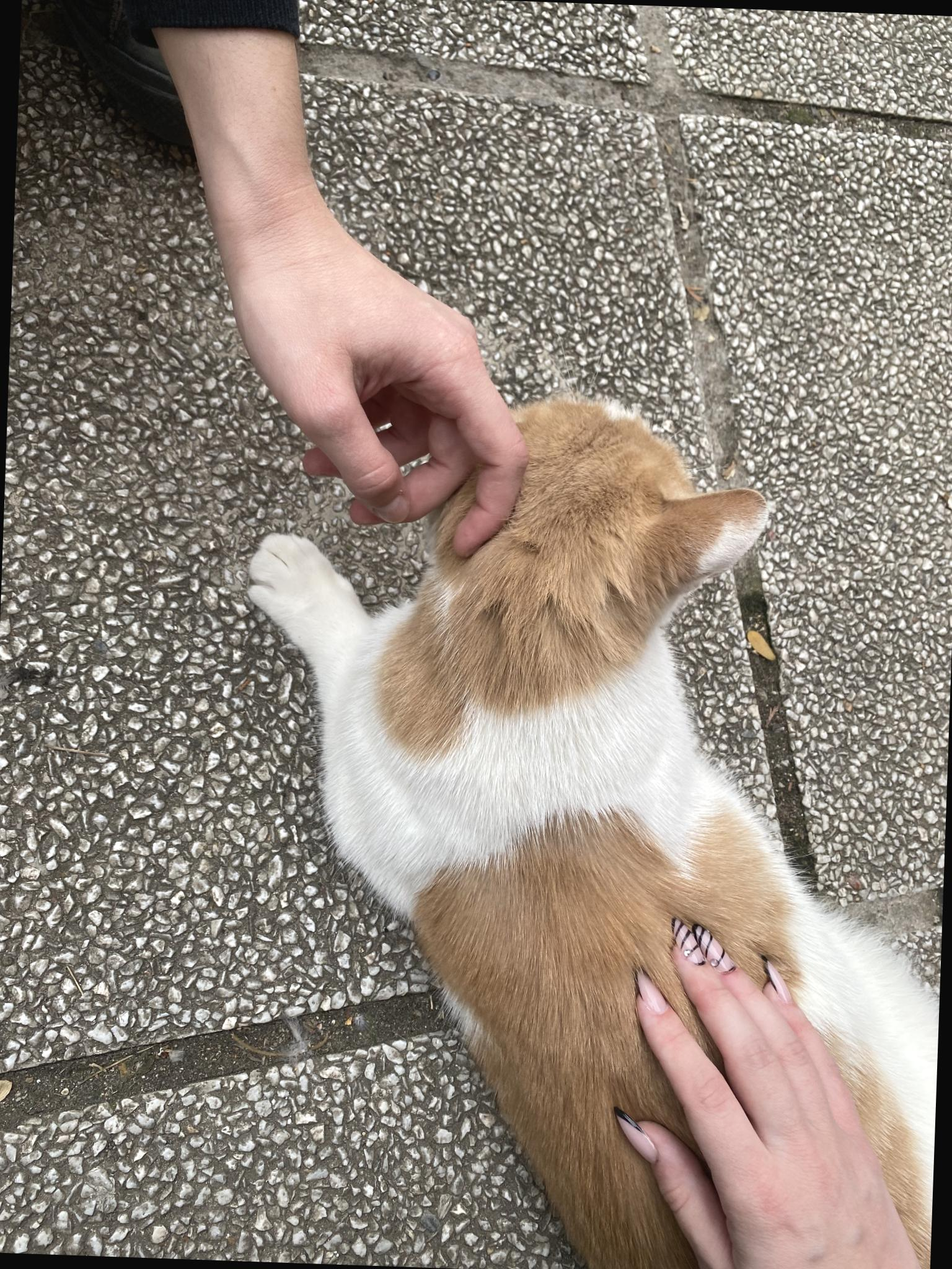macka: (220, 385, 952, 1269)
